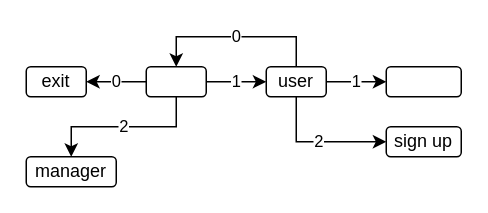
This 488x213 diagram has some shape labels left out. Here are the shapes that lost their labels. From the top down, the centre of each, then its label:
At pixel 175 81: "start".
At pixel 423 81: "sign in".
